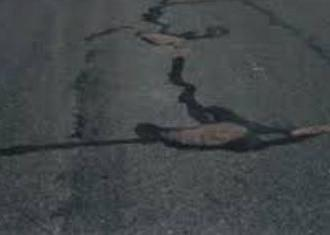crack: (161, 59, 214, 126), (78, 24, 150, 42)
